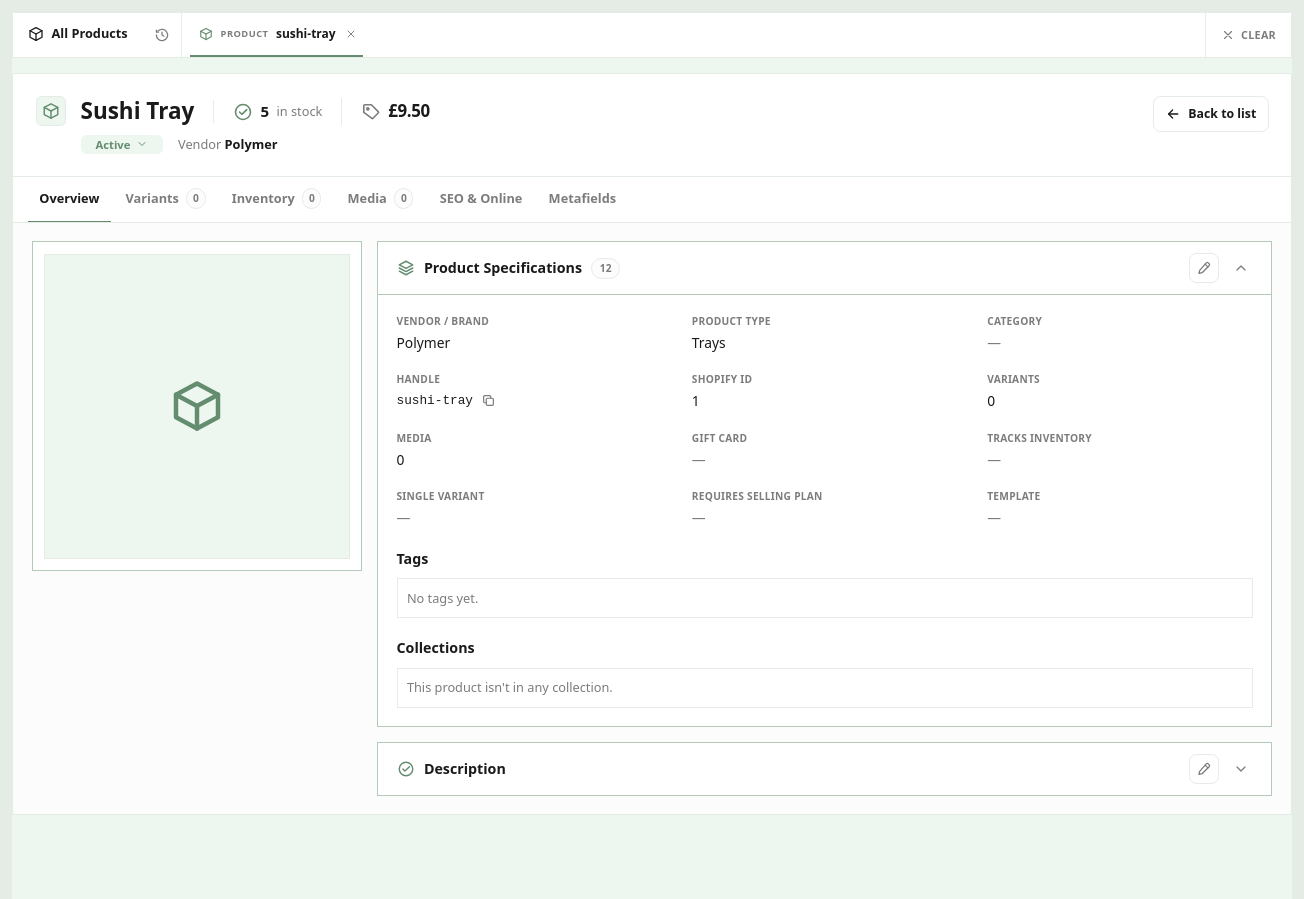
Test: the Tags block on the product page › says so when there are no tags yet, and the box is there once editing
The width and height of the screenshot is (1304, 899).
Check: the heading "Sushi Tray" is shown, box [80,96,194,127]
Check: the element "Tags" is shown, box [396,548,1252,618]
Click the button named "Edit specifications".
click(1204, 268)  # box [1189,253,1219,283]
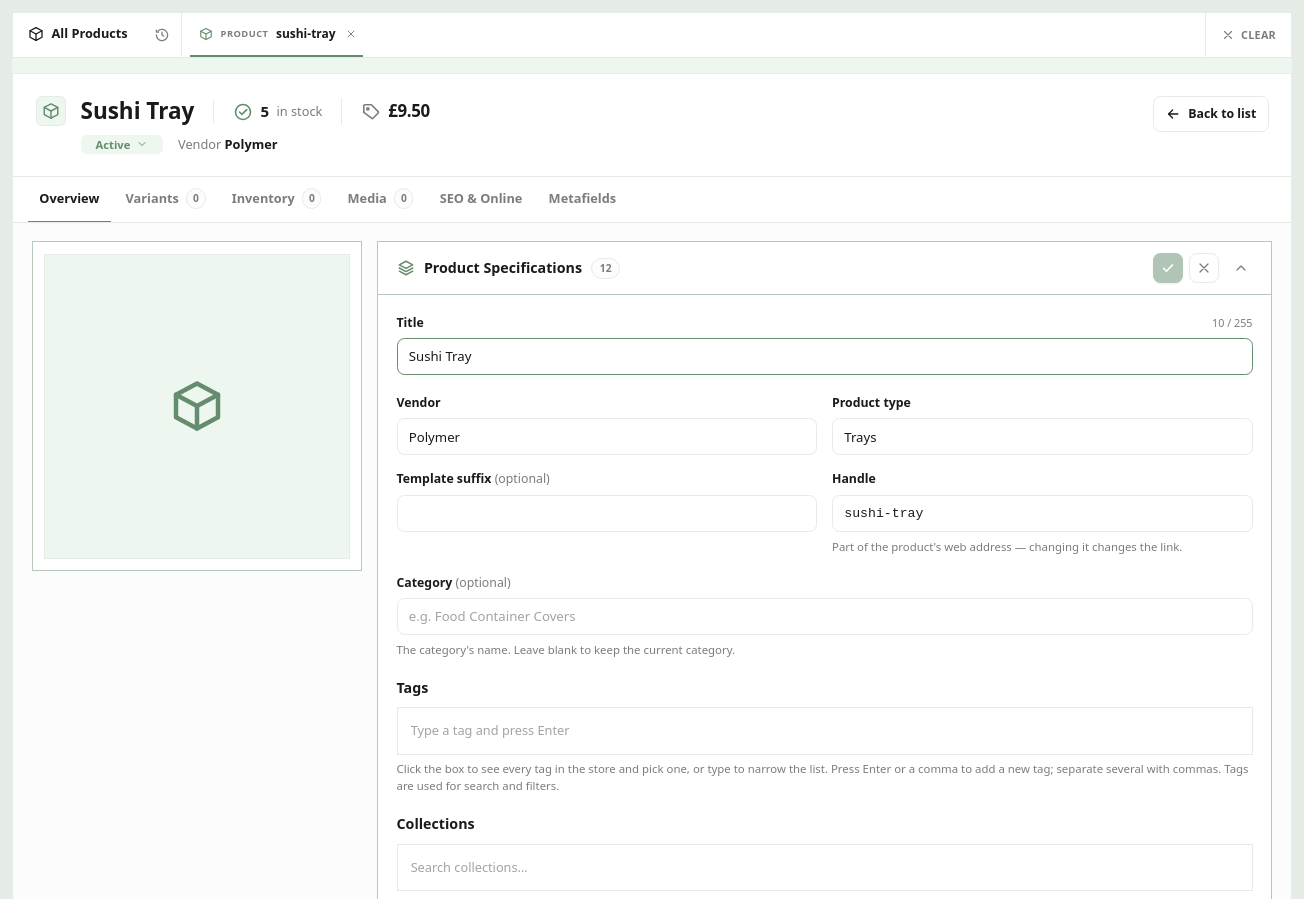
Check: the dropdown named "Add tags" is shown, box [407,718,1242,744]
